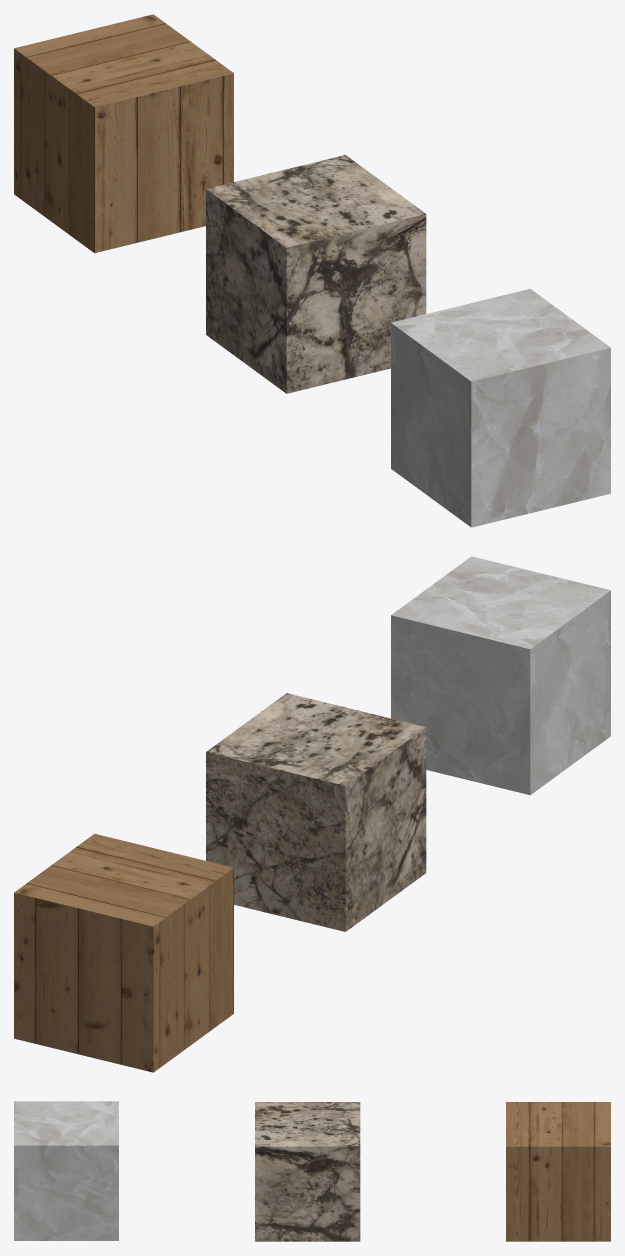
File: Transformery.fbx
The picture shows the model from 3 angles, top to bottom: view 1: azimuth 30°, elevation 25°; view 2: azimuth 150°, elevation 25°; view 3: azimuth 270°, elevation 25°; orthographic projection. The views are drawn at different scales.
Parts seen in each view (by area): view 1: Papier, Drewno, Kamień; view 2: Drewno, Kamień, Papier; view 3: Kamień, Drewno, Papier.
Boxes of the visible parts, x1,y1,x2,y2 form: Papier: (391, 288, 610, 527); Drewno: (14, 14, 233, 253); Kamień: (206, 155, 426, 393); Drewno: (14, 833, 233, 1072); Kamień: (206, 693, 426, 931); Papier: (391, 556, 610, 795); Kamień: (255, 1102, 360, 1241); Drewno: (506, 1102, 610, 1241); Papier: (14, 1101, 118, 1240).
Bounding box in the file's own units: 200 × 202 × 1136.
